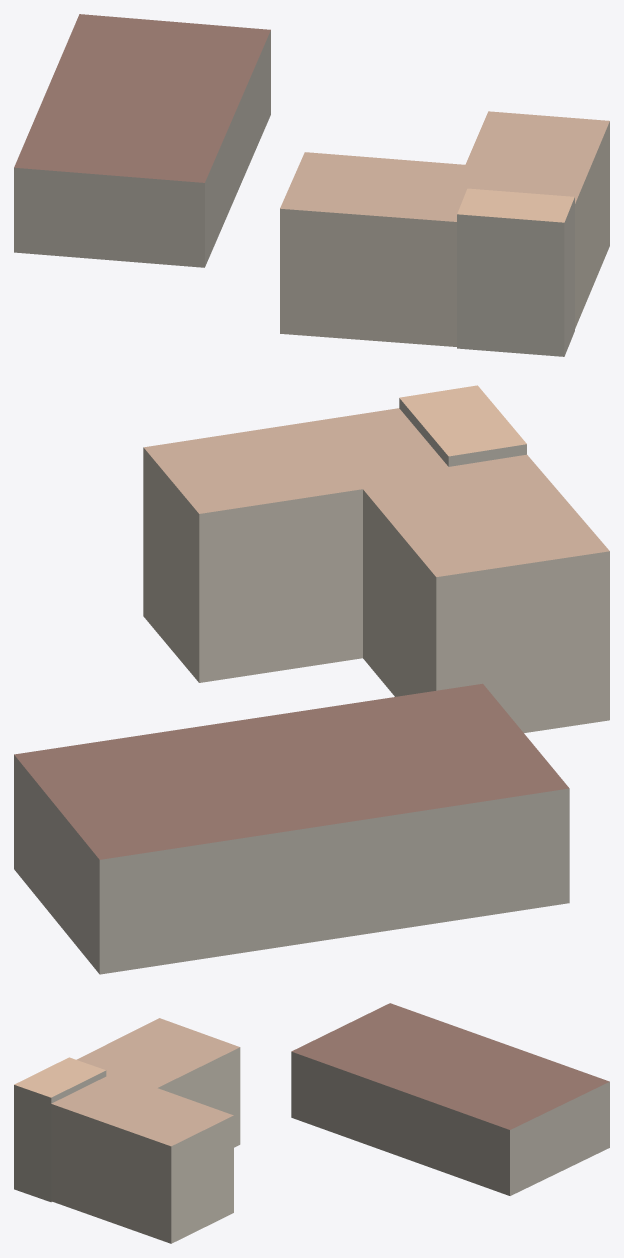
3 views of the same model, one above another, from view 1: azimuth 30°, elevation 25°; view 2: azimuth 150°, elevation 25°; view 3: azimuth 270°, elevation 25° (orthographic). The views are drawn at different scales.
Parts seen in each view (by area): view 1: tuile; view 2: tuile; view 3: tuile.
Boxes of the visible parts, bbox=[...] form: tuile: bbox=[14, 14, 609, 356]; tuile: bbox=[14, 385, 609, 974]; tuile: bbox=[14, 1003, 609, 1243].
Bounding box in the file's own units: 38.6 × 10.87 × 56.1.
